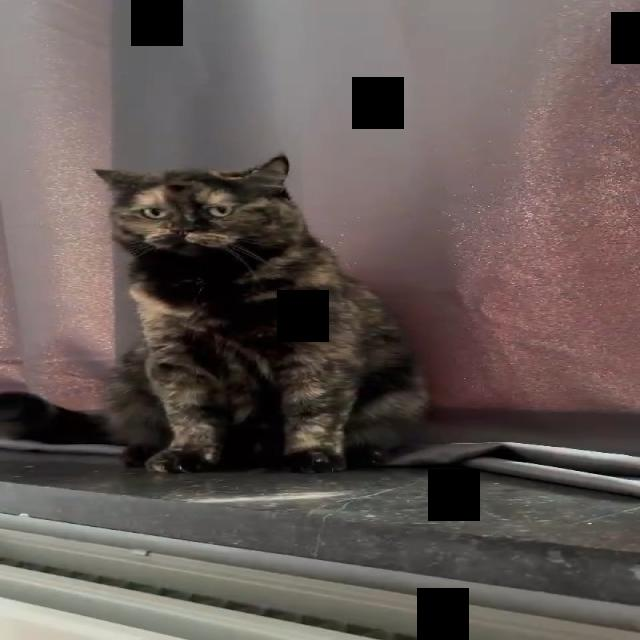authorized: (90, 152, 430, 474)
